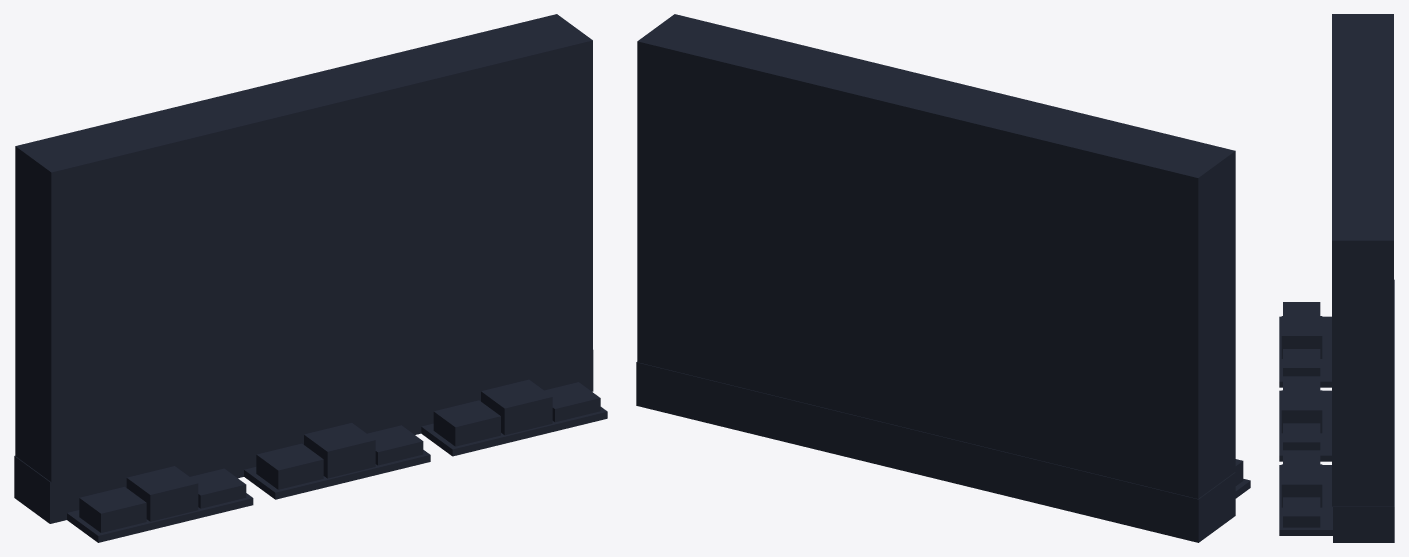
Rendered from COL_Leaderboard_Body.obj.
3 views of the same model, side by side, from view 1: azimuth 30°, elevation 25°; view 2: azimuth 150°, elevation 25°; view 3: azimuth 270°, elevation 25° (orthographic). The views are drawn at different scales.
Visible parts, largest first — view 1: COL_Leaderboard_MainWallHull, COL_Leaderboard_WallPlinthHull, COL_Leaderboard_Stage_A_Hull, COL_Leaderboard_Stage_C_Hull, COL_Leaderboard_Stage_B_Hull; view 2: COL_Leaderboard_MainWallHull, COL_Leaderboard_WallPlinthHull; view 3: COL_Leaderboard_MainWallHull, COL_Leaderboard_Stage_C_Hull, COL_Leaderboard_Stage_A_Hull, COL_Leaderboard_Stage_B_Hull, COL_Leaderboard_WallPlinthHull.
Boxes of the visible parts, <box> form: COL_Leaderboard_MainWallHull: <box>15,14,592,482</box>; COL_Leaderboard_WallPlinthHull: <box>14,350,593,523</box>; COL_Leaderboard_Stage_A_Hull: <box>67,466,253,542</box>; COL_Leaderboard_Stage_C_Hull: <box>421,379,607,456</box>; COL_Leaderboard_Stage_B_Hull: <box>244,423,430,499</box>; COL_Leaderboard_MainWallHull: <box>637,14,1235,498</box>; COL_Leaderboard_WallPlinthHull: <box>636,362,1235,542</box>; COL_Leaderboard_MainWallHull: <box>1332,14,1393,506</box>; COL_Leaderboard_Stage_C_Hull: <box>1279,450,1332,535</box>; COL_Leaderboard_Stage_A_Hull: <box>1279,302,1331,387</box>; COL_Leaderboard_Stage_B_Hull: <box>1279,376,1331,461</box>; COL_Leaderboard_WallPlinthHull: <box>1333,279,1394,542</box>.
Bounding box in the file's own units: 42 × 26 × 9.
Materials: 1 (1 with a texture image).
